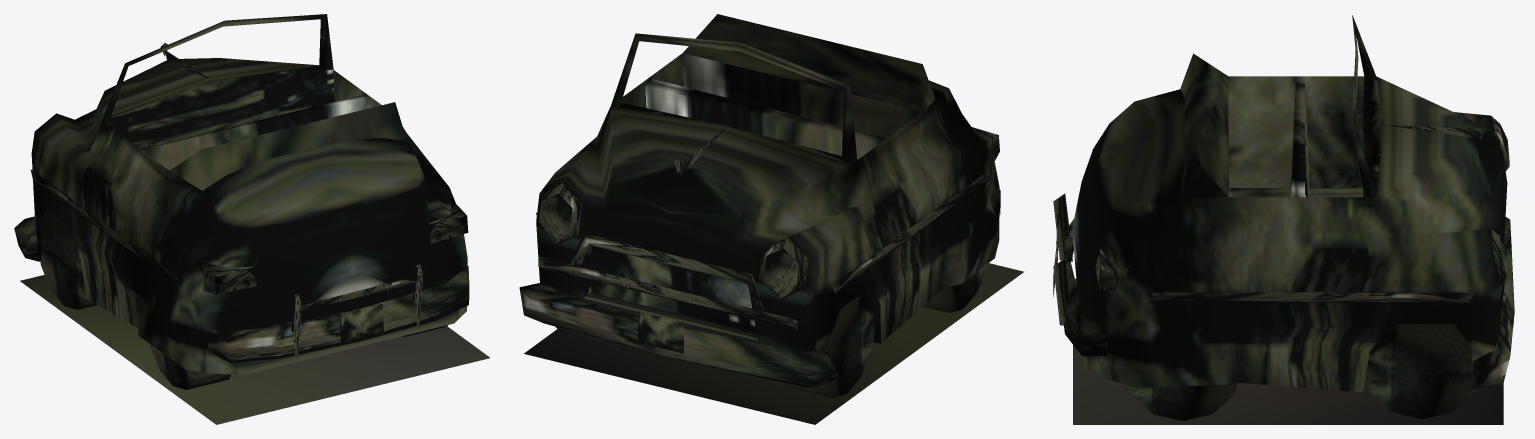
File: slime1.ico.obj
The picture shows the model from 3 angles, left to right: view 1: azimuth 30°, elevation 25°; view 2: azimuth 150°, elevation 25°; view 3: azimuth 270°, elevation 25°; orthographic projection. The views are drawn at different scales.
Size of the model in its own units: 2.07 by 1.85 by 2.6.
